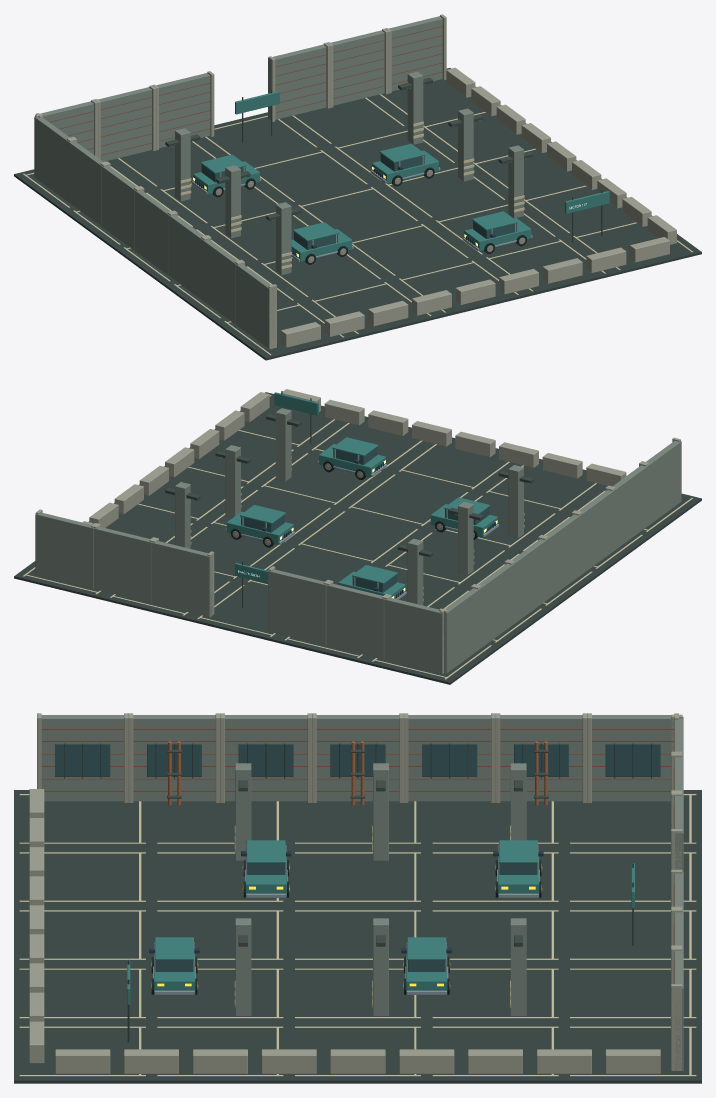
Rendered from chapter_garage.glb.
The picture shows the model from 3 angles, top to bottom: view 1: azimuth 30°, elevation 25°; view 2: azimuth 150°, elevation 25°; view 3: azimuth 270°, elevation 25°; orthographic projection. The views are drawn at different scales.
Visible parts, largest first — view 1: chapter_garage; view 2: chapter_garage; view 3: chapter_garage.
Boxes of the visible parts, x1,y1,x2,y2 form: chapter_garage: (14,14,701,360); chapter_garage: (14,389,701,684); chapter_garage: (14,713,701,1083).
Bounding box in the file's own units: 30 × 4.54 × 30.
